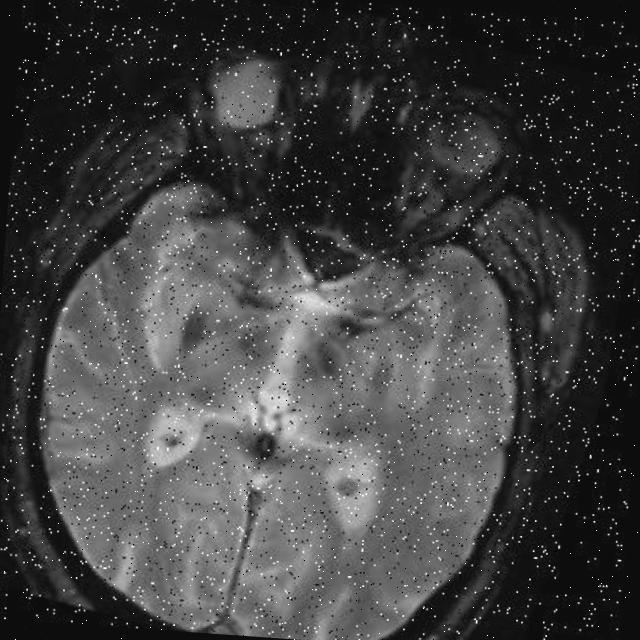EMCI: (157, 279, 250, 375), (298, 311, 374, 391)
